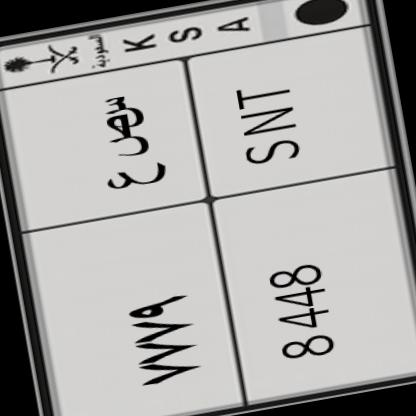english: (152, 12, 416, 415)
